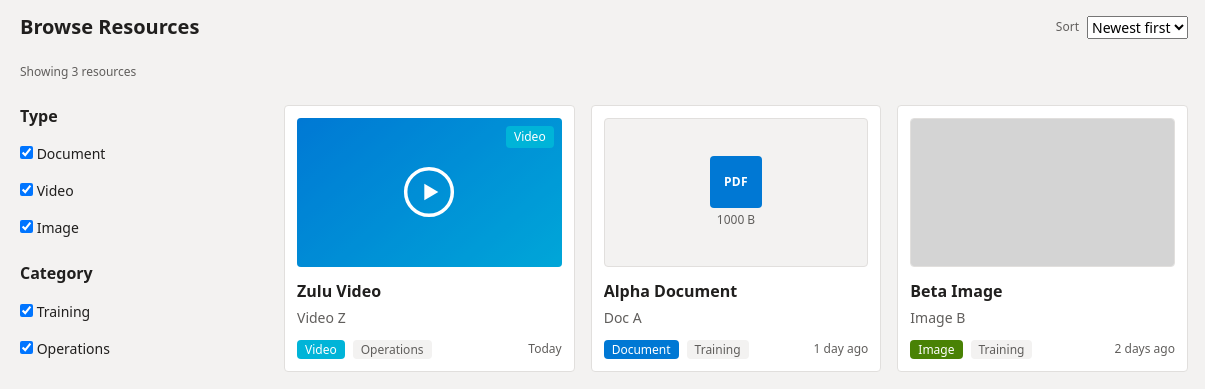
BrowsePage › filters by category checkbox
This screenshot has width=1205, height=389.
Expected: the text "Showing 3 resources" is shown, top-left (20, 63), bottom-right (136, 80)
What coordinates should you click on to do the following:
click the checkbox labelled "Operations"
I would click on:
 (26, 347)
Its box is top-left (20, 341), bottom-right (33, 354).
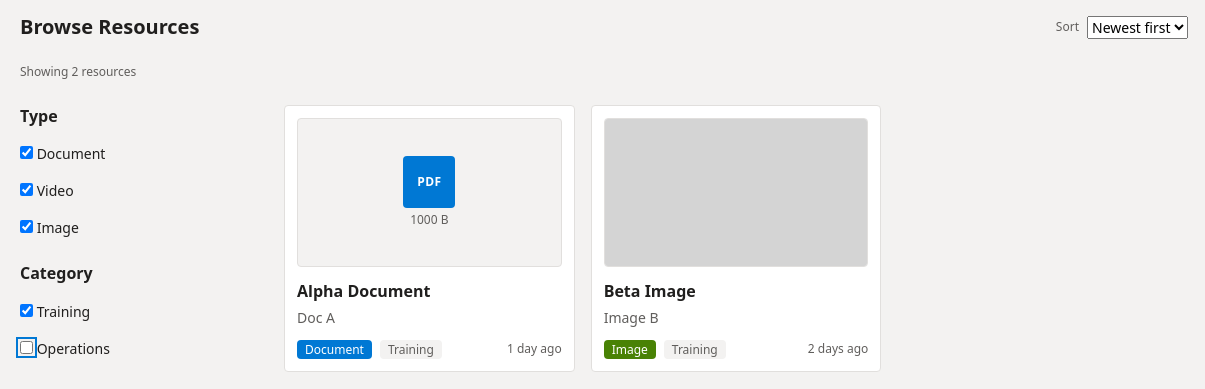
Expected: the link "Zulu Video" is gone
Expected: the text "Showing 2 resources" is shown, top-left (20, 63), bottom-right (136, 80)
